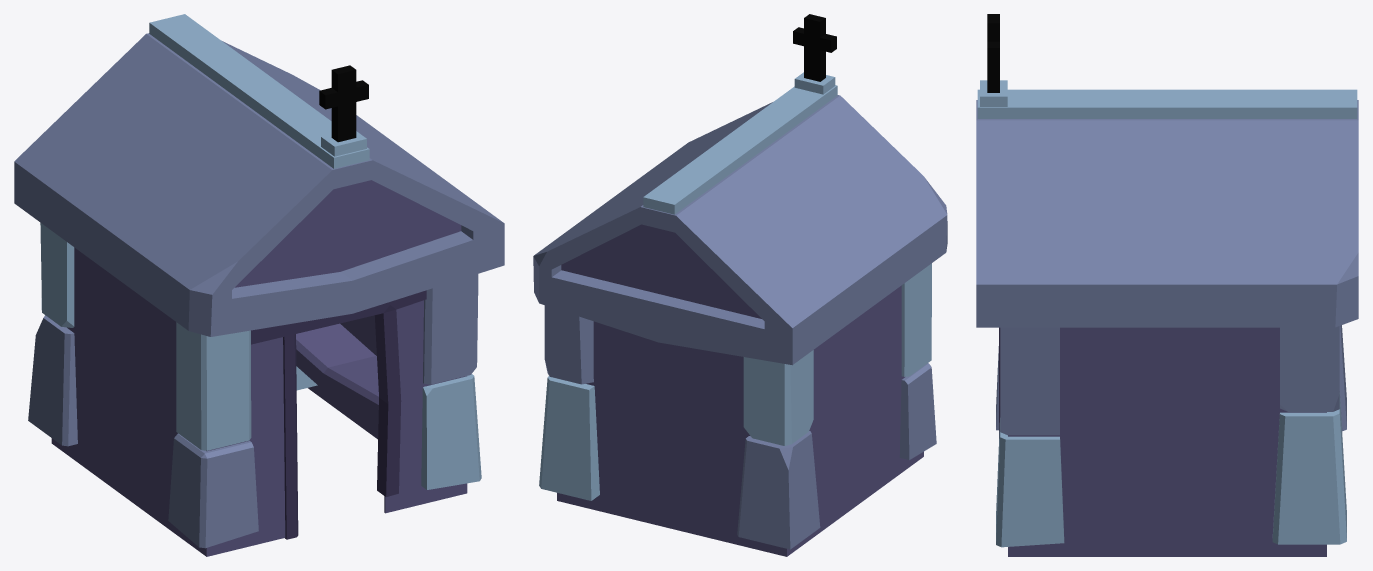
Rendered from Graveyard Keep Top.fbx.
3 renders of one model, left to right at view 1: azimuth 30°, elevation 25°; view 2: azimuth 150°, elevation 25°; view 3: azimuth 270°, elevation 25°, orthographic. The views are drawn at different scales.
Visible parts, largest first — view 1: Graveyard Keep Top; view 2: Graveyard Keep Top; view 3: Graveyard Keep Top.
Part boxes in pixels (x1,y1,x2,y2): Graveyard Keep Top: (14,14,504,556); Graveyard Keep Top: (533,14,947,556); Graveyard Keep Top: (976,14,1358,556).
Size of the model in its own units: 466 by 675 by 494.
